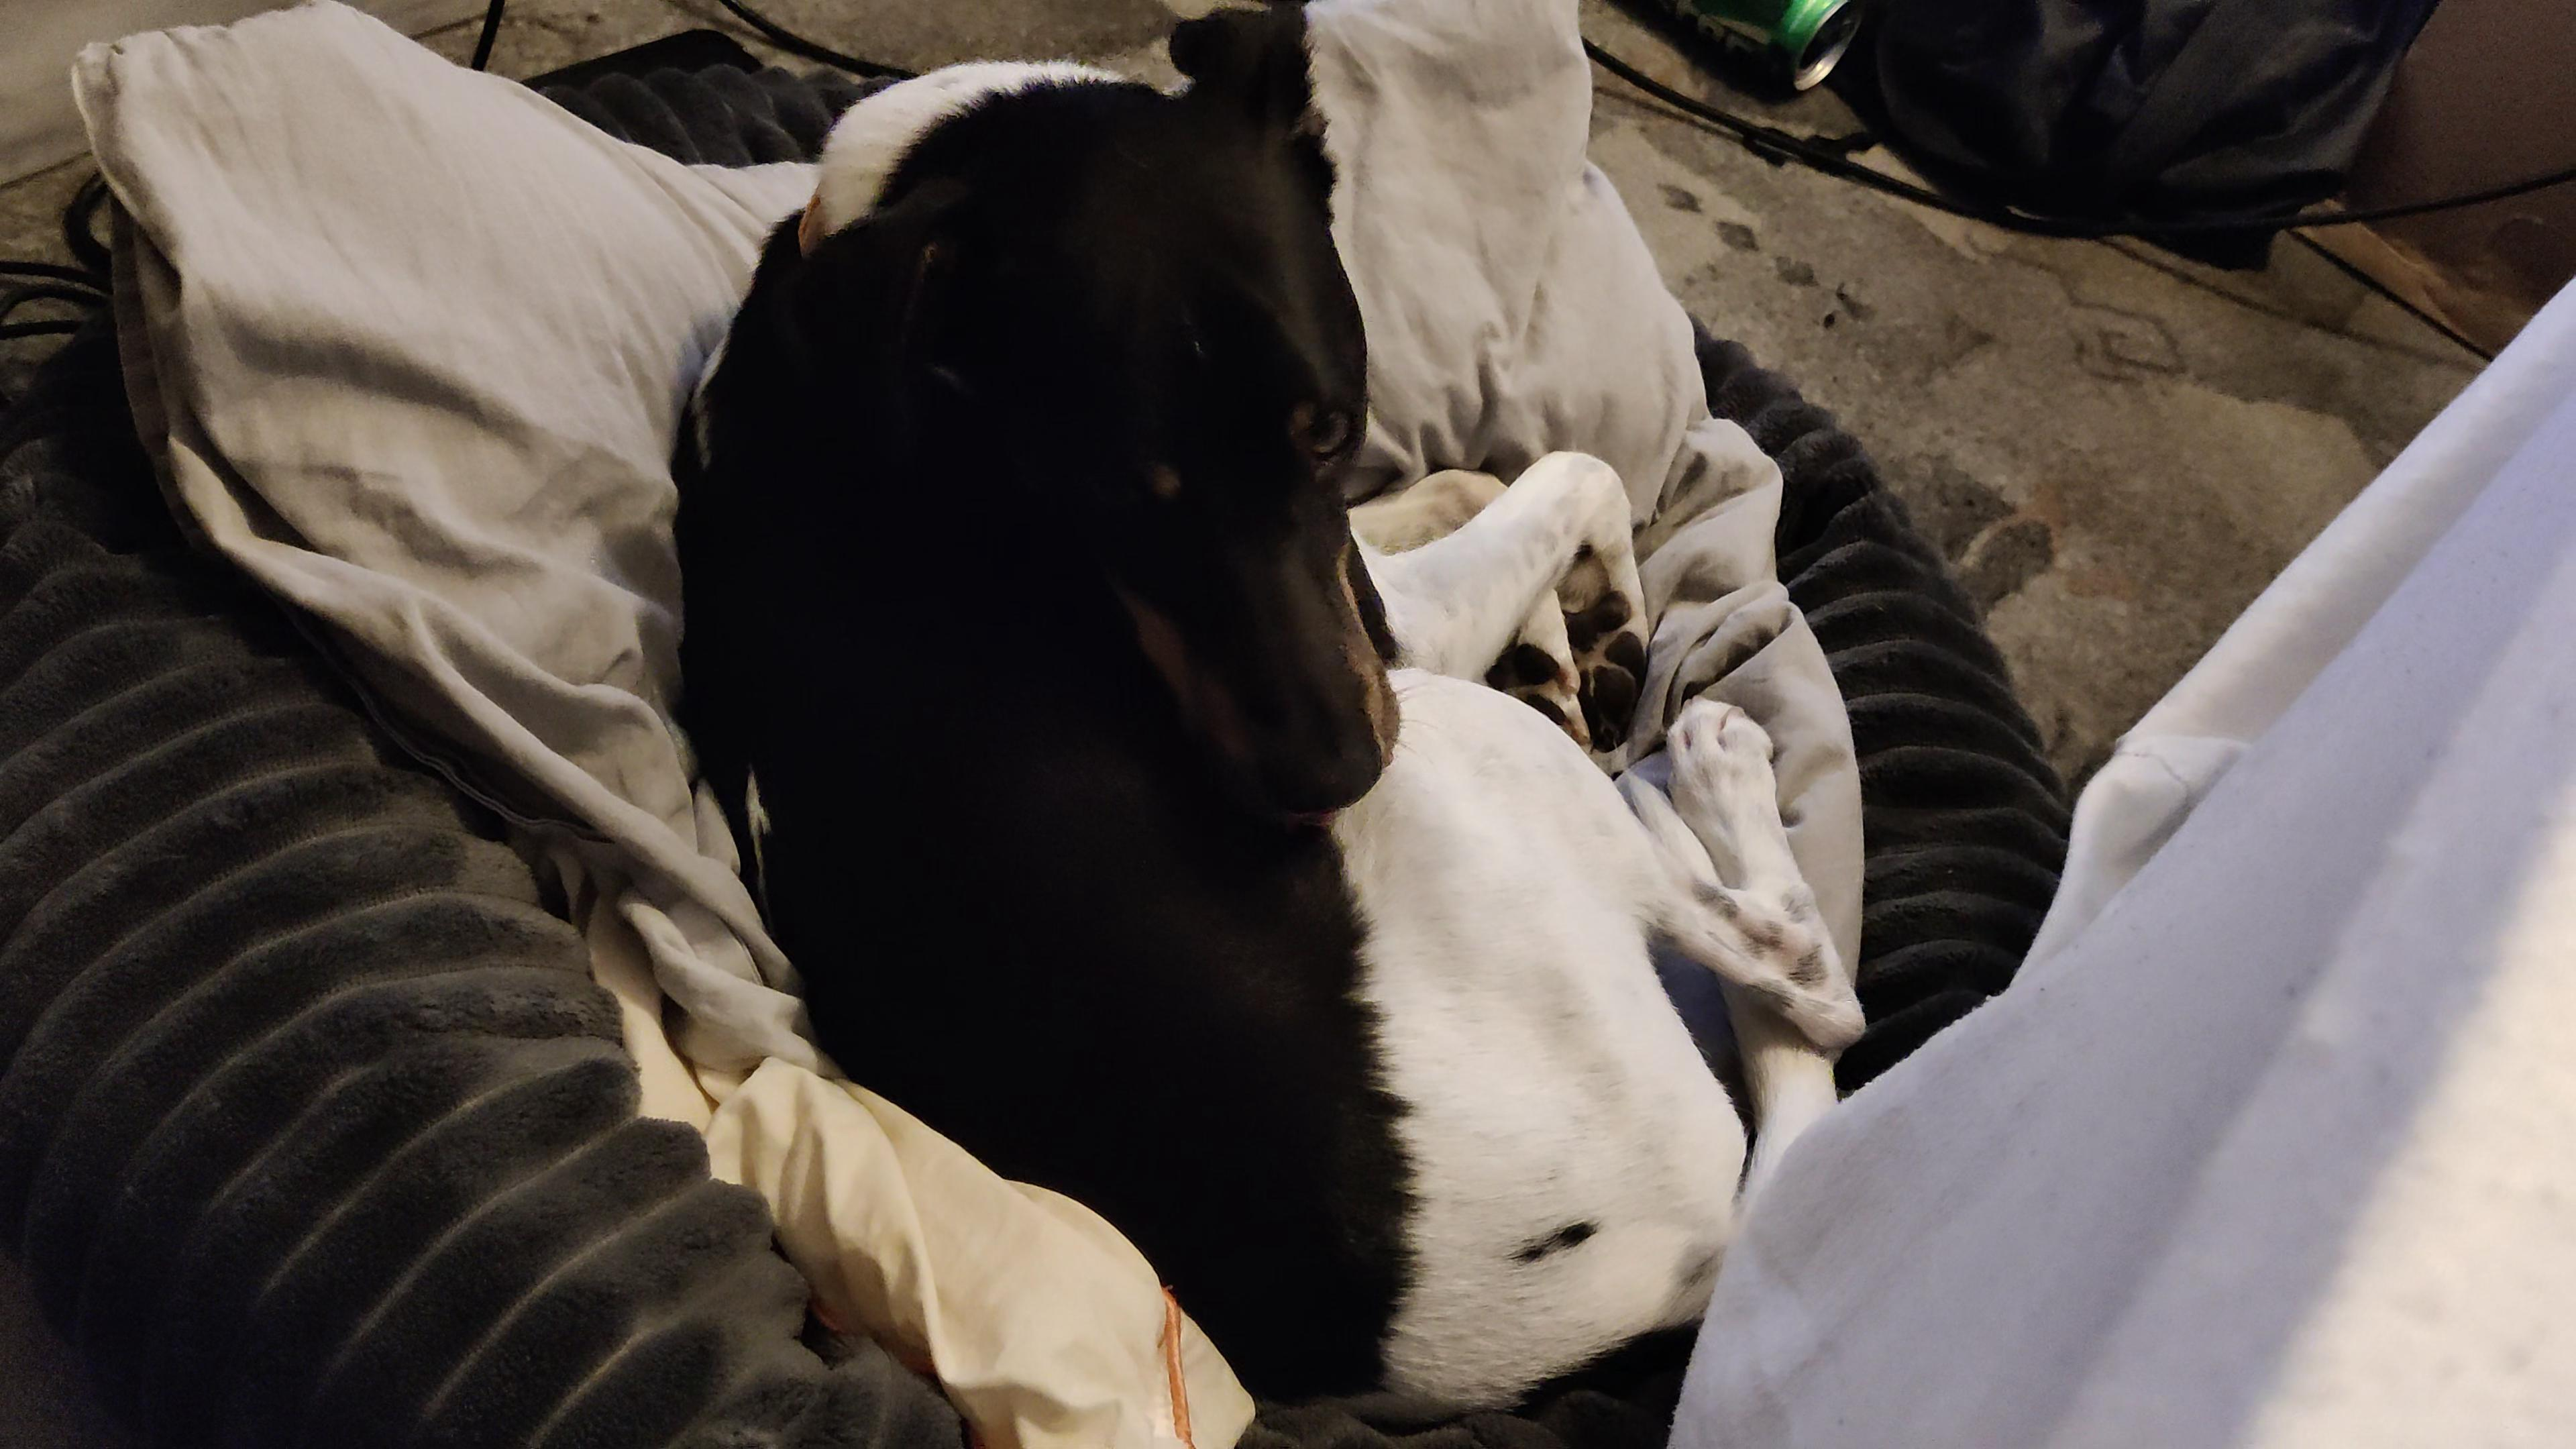Dog: (644, 0, 1916, 1431)
